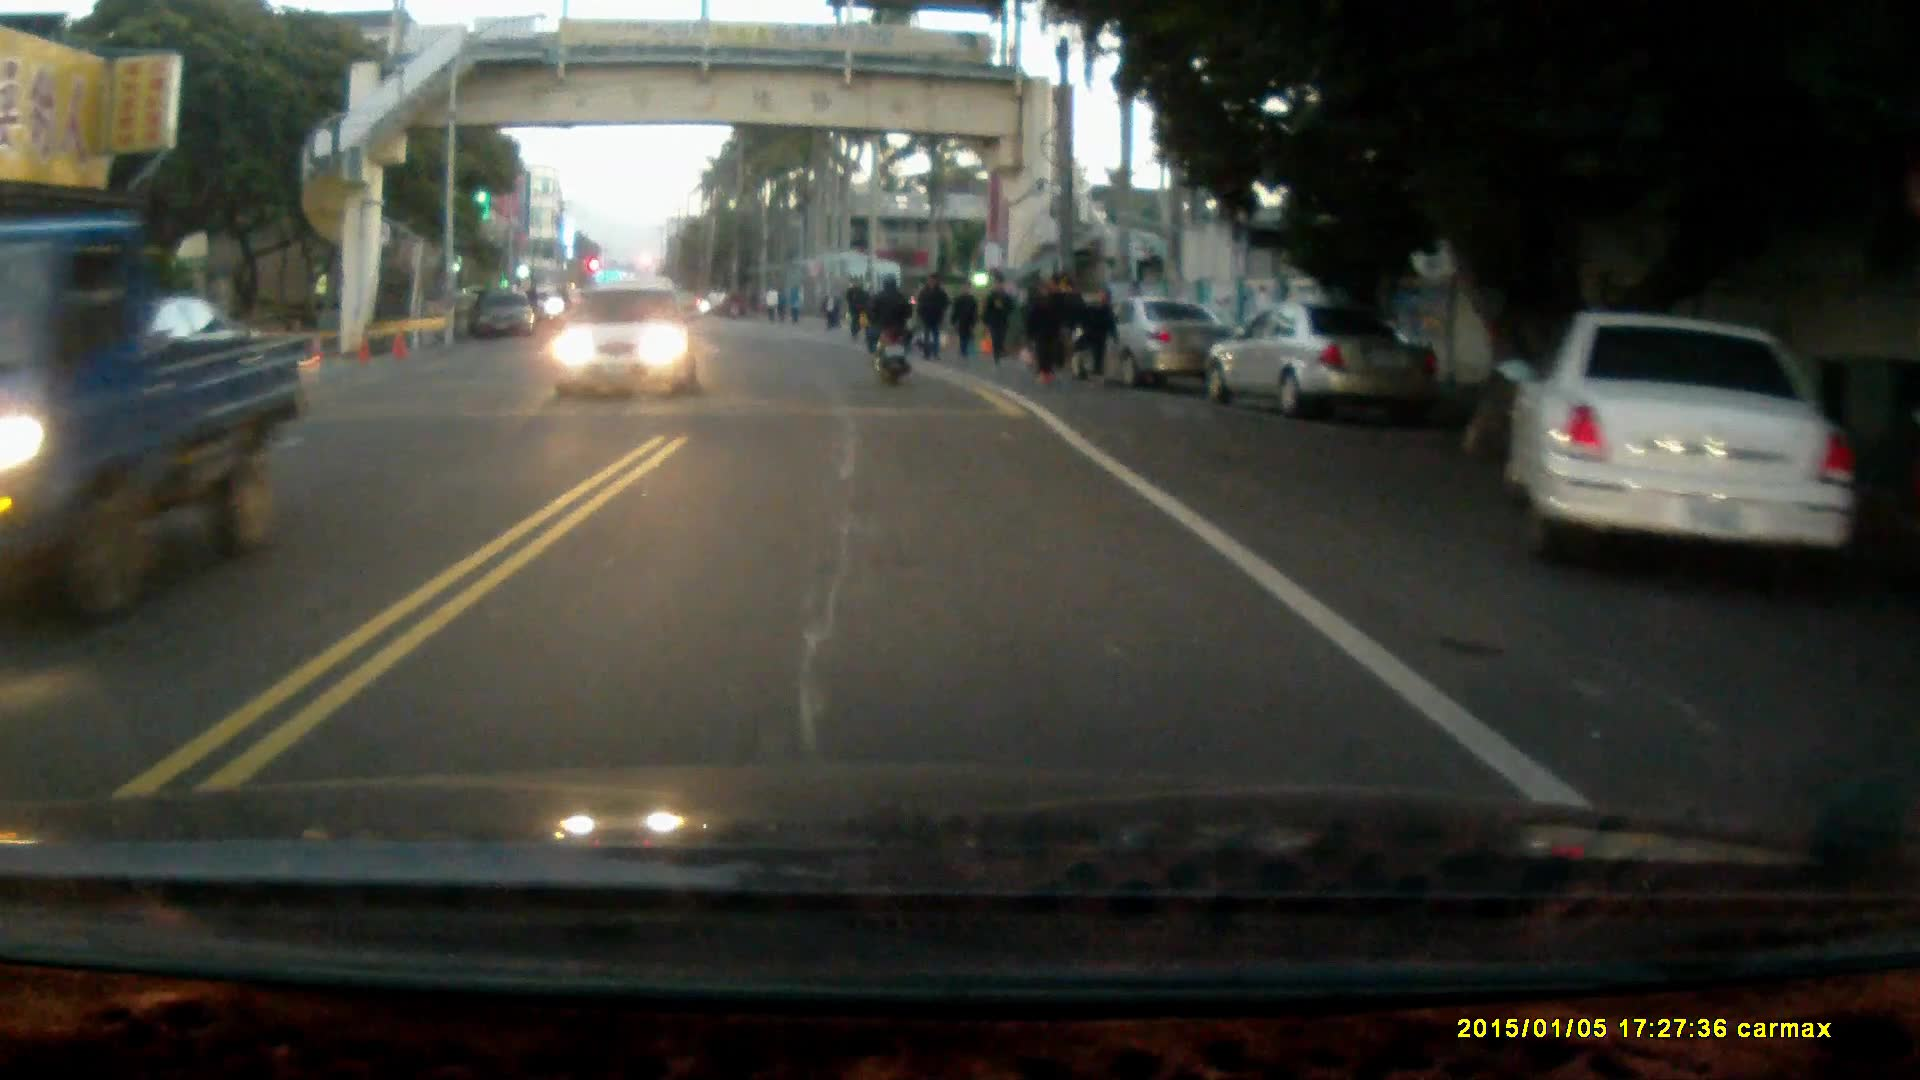pedestrian: (1024, 274, 1059, 382), (1043, 271, 1077, 377), (1082, 286, 1118, 383), (982, 268, 1016, 363), (915, 270, 950, 359), (949, 277, 983, 362)
rider: (860, 273, 916, 389)
vehicle: (1, 227, 312, 609), (1500, 310, 1857, 593), (1208, 297, 1433, 420), (550, 279, 703, 402), (1106, 295, 1240, 395)
